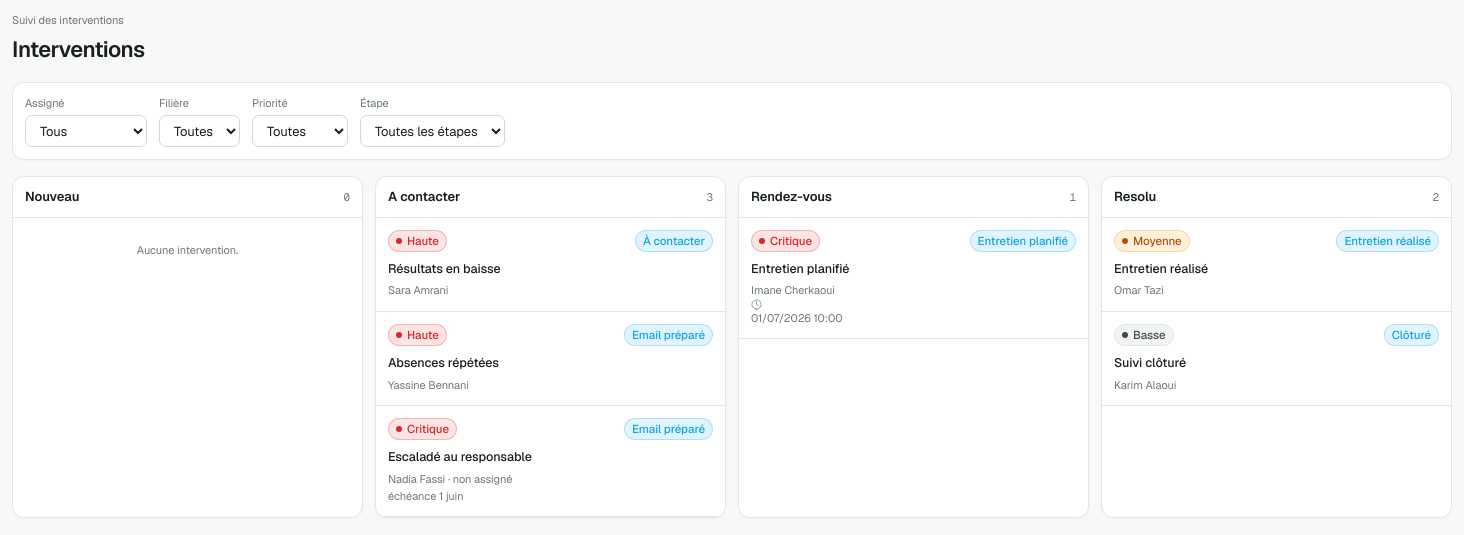
it: Cases intervention queue › filters primary cards by filière
Expected: the button "Haute À contacter Résultats en baisse Sara Amrani" is shown, [376, 218, 725, 312]
Select "IA" in the dropdown labelled "Filière" at (200, 131), box [159, 115, 240, 147]
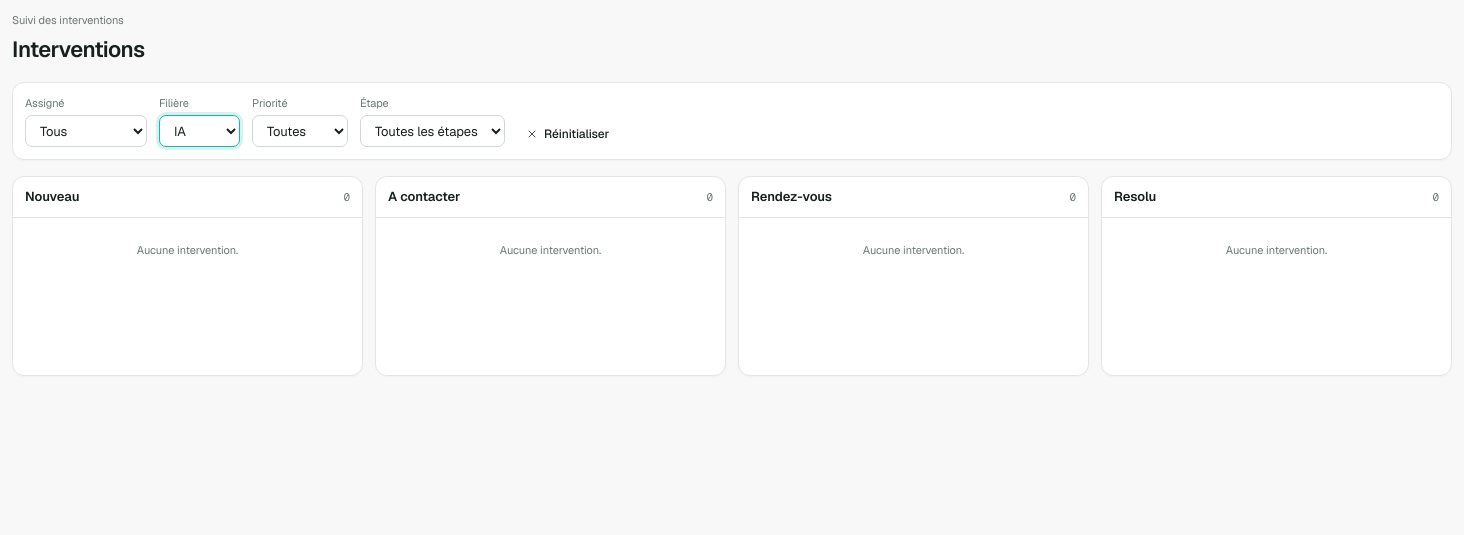
Now the button "Sara Amrani" is gone
Now the button "Yassine Bennani" is gone
